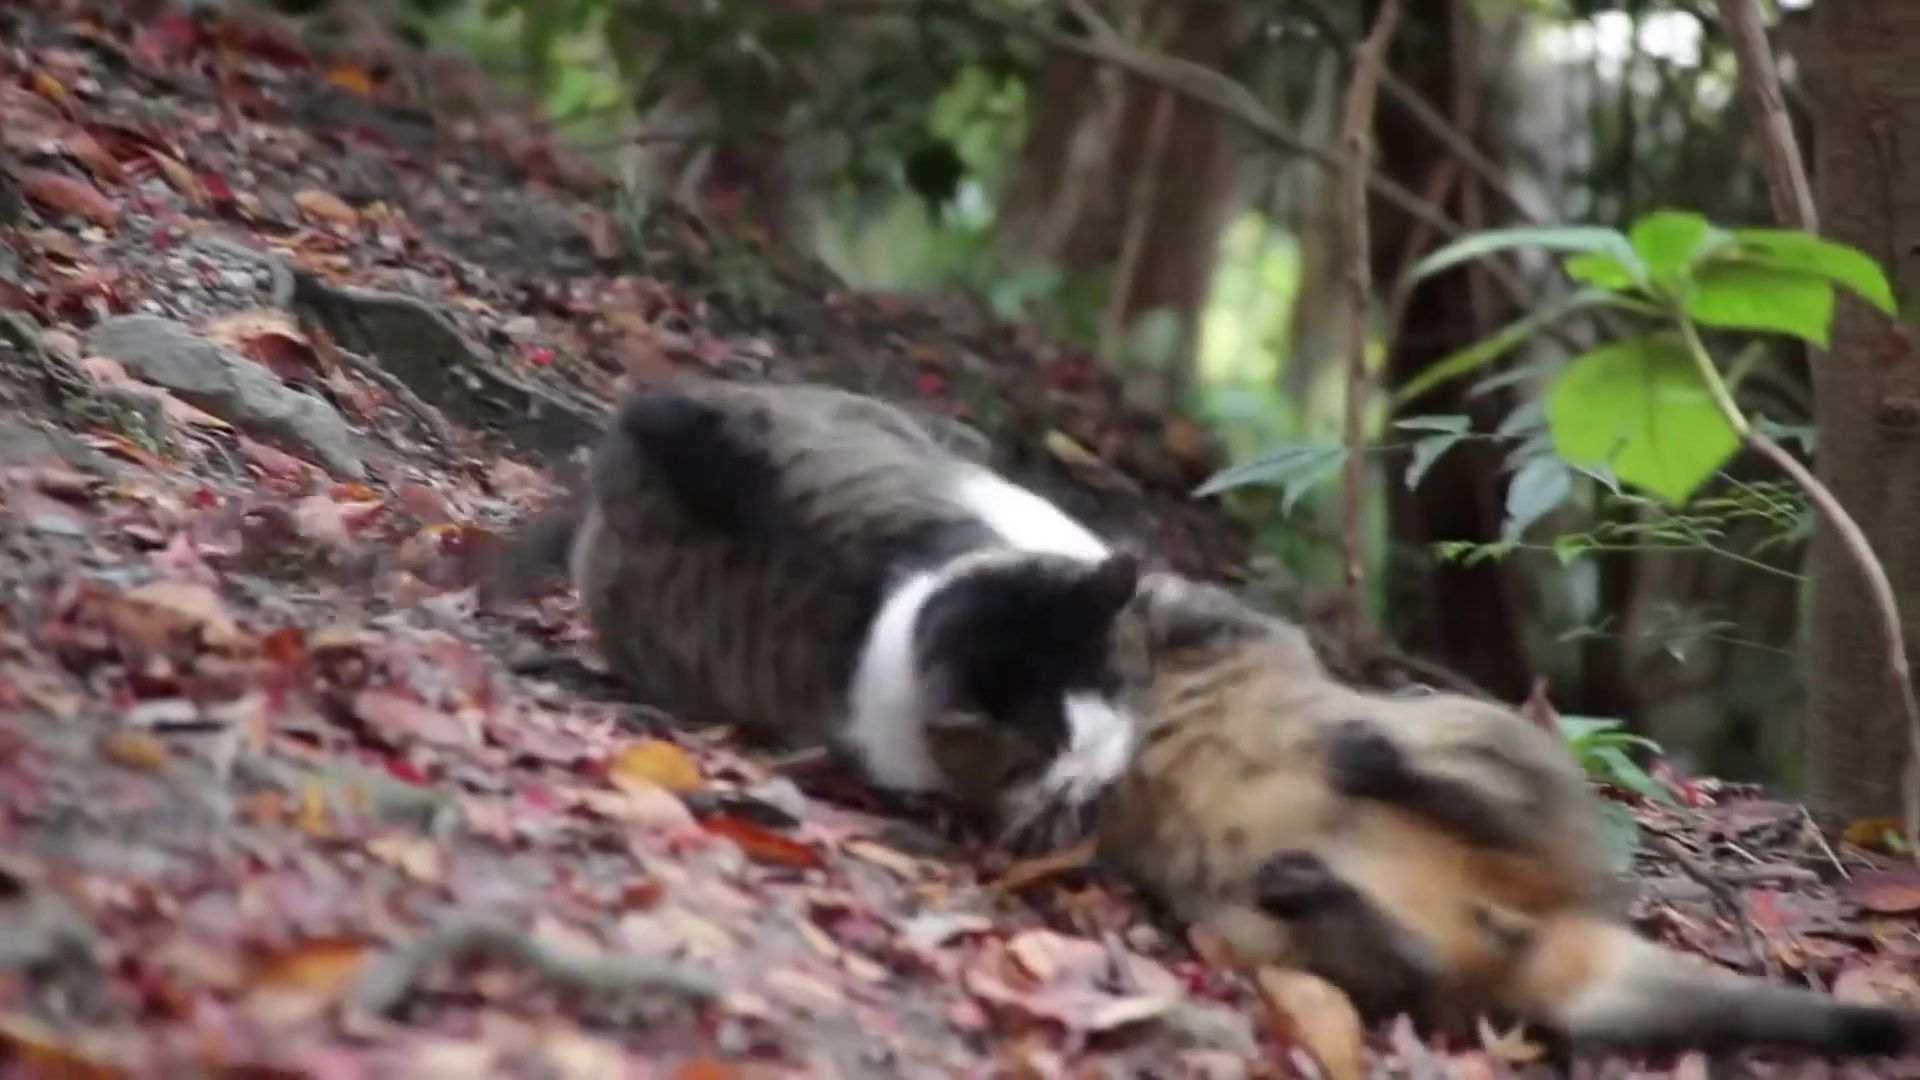black-white: (574, 381, 1143, 810)
pure black: (1096, 568, 1920, 1054)
